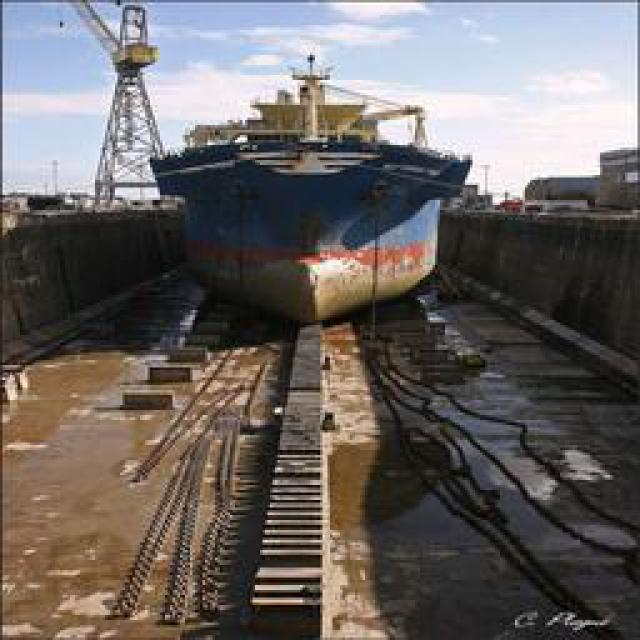Ship: (148, 51, 477, 328)
